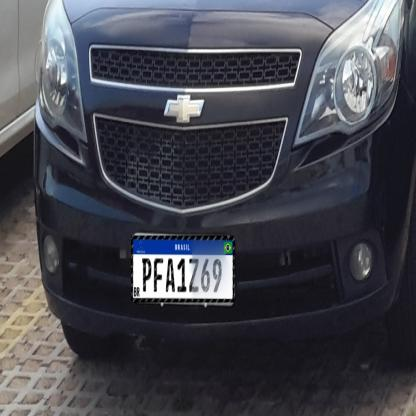PlacaM: (131, 236, 235, 302)
